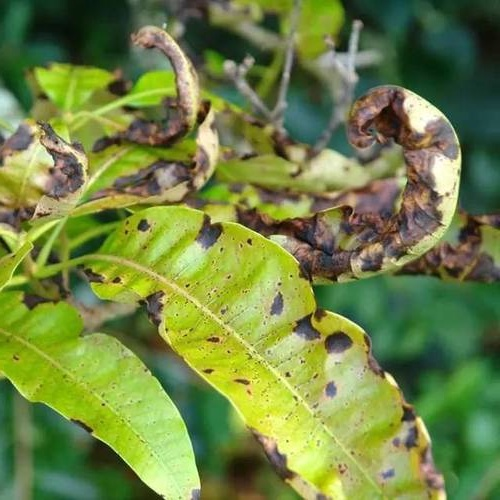Anthracnose: (254, 88, 449, 283), (43, 61, 222, 232), (238, 312, 372, 450), (92, 262, 216, 342), (383, 394, 452, 471)
